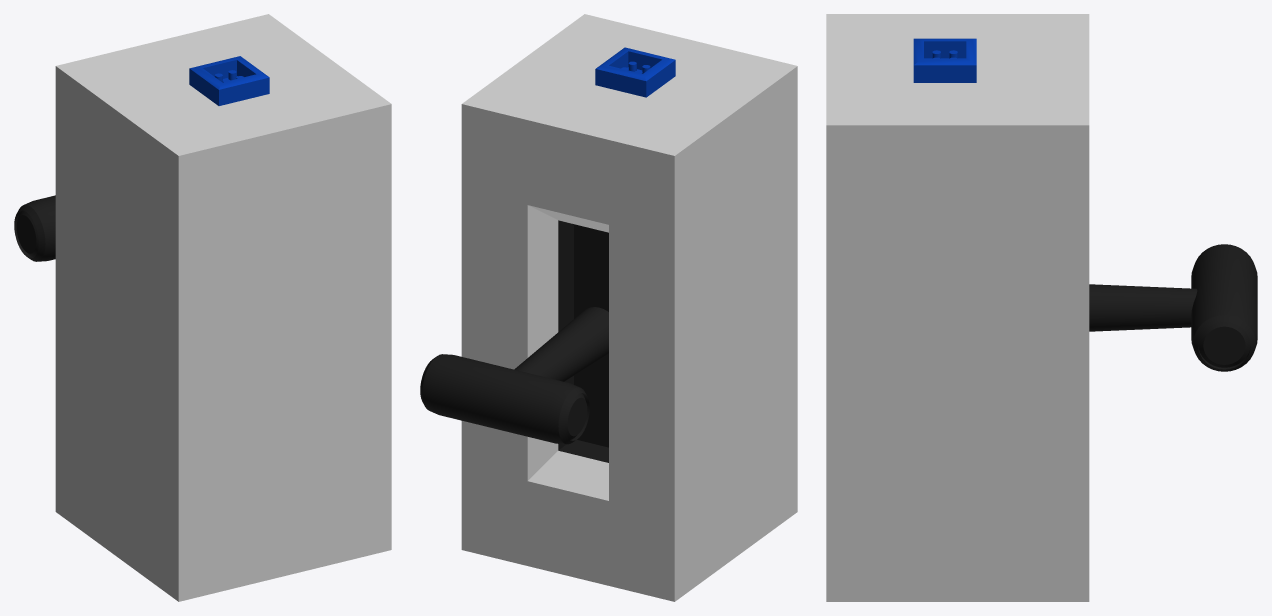
Rendered from ThrottleLever.gltf.
3 renders of one model, left to right at view 1: azimuth 30°, elevation 25°; view 2: azimuth 150°, elevation 25°; view 3: azimuth 270°, elevation 25°, orthographic. The views are drawn at different scales.
Parts seen in each view (by area): view 1: base, lever; view 2: base, lever; view 3: base, lever.
Boxes of the visible parts, <box> form: base: <box>55,14,391,601</box>; lever: <box>14,195,55,261</box>; base: <box>461,14,797,601</box>; lever: <box>420,307,608,444</box>; base: <box>826,14,1089,601</box>; lever: <box>1089,244,1257,371</box>.
Bounding box in the file's own units: 0.25 × 0.5203 × 0.4101.
